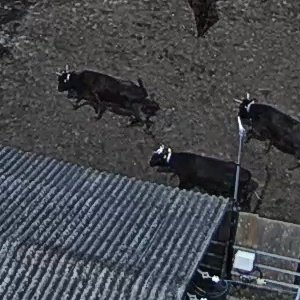cow: (134, 137, 255, 217), (46, 54, 169, 127), (229, 84, 298, 166)
